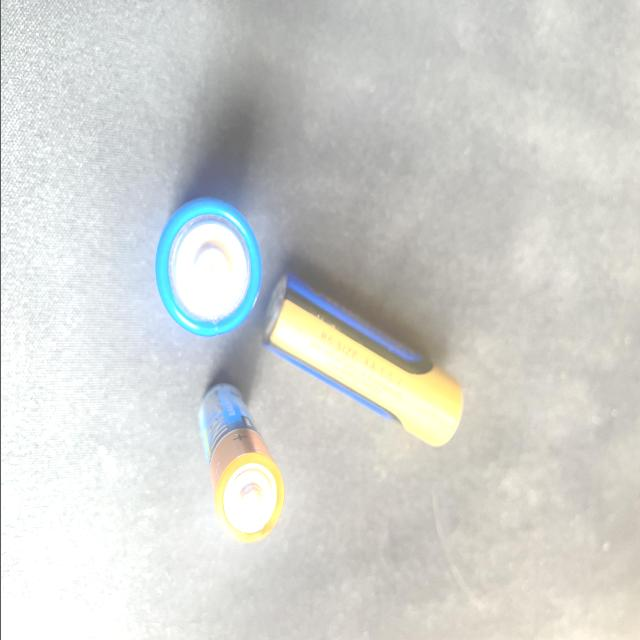AA: (257, 270, 465, 454), (193, 380, 285, 549)
